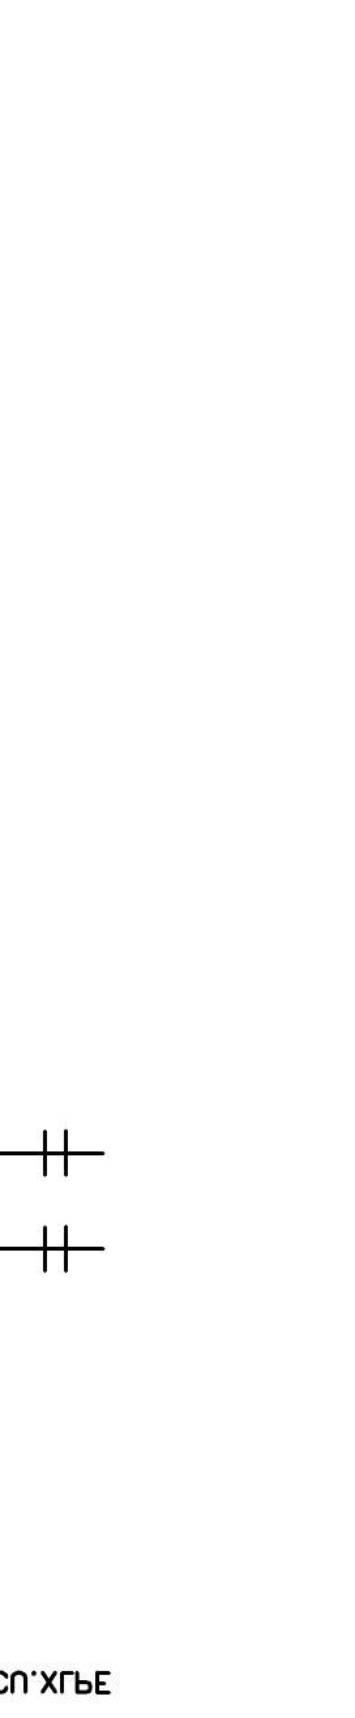115_buffer: (43, 1224, 68, 1273), (43, 1129, 68, 1178)
